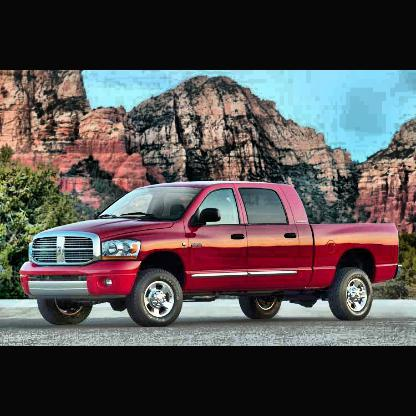Dodge Ram Pickup 3500 Quad Cab 2009: (21, 181, 406, 327)
